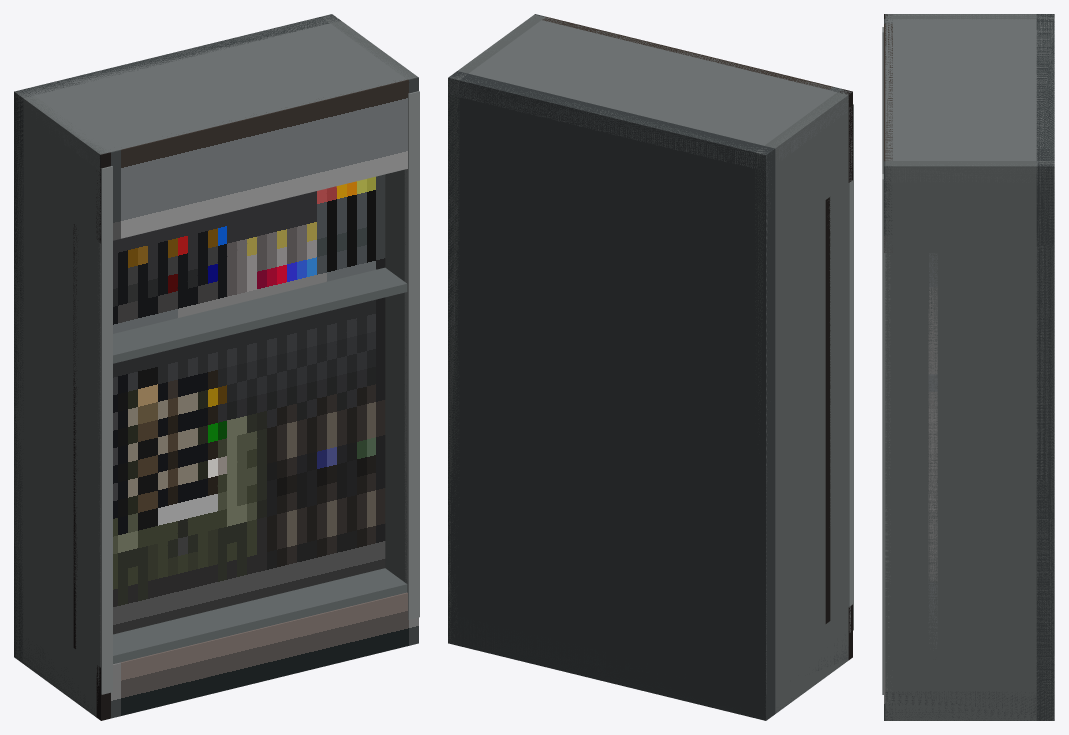
Rendered from CMU3DReduxAU14HAZOPSSpecialWeaponsVendor.glb.
3 views of the same model, side by side, from view 1: azimuth 30°, elevation 25°; view 2: azimuth 150°, elevation 25°; view 3: azimuth 270°, elevation 25° (orthographic).
Visible parts, largest first — view 1: source cabinet panel 2, left casing, source cabinet panel 0, closed roof, source cabinet panel 1, source cabinet panel 3, front upright (×2), right casing, shelf tray 2, shelf tray 1, closed cabinet back; view 2: closed cabinet back, left casing, closed roof, right casing, front upright, source cabinet panel 0, source cabinet panel 2, closed plinth and underside, source cabinet panel 1; view 3: right casing, closed roof, closed cabinet back, source cabinet panel 2, front upright, closed plinth and underside, source cabinet panel 0, source cabinet panel 1, left casing.
Part boxes in pixels (left/top/right/bottom): source cabinet panel 2: left=73, top=297, right=385, bottom=648; left casing: left=14, top=90, right=108, bottom=717; source cabinet panel 0: left=96, top=77, right=418, bottom=243; closed roof: left=16, top=14, right=417, bottom=170; source cabinet panel 1: left=73, top=174, right=385, bottom=347; source cabinet panel 3: left=96, top=592, right=418, bottom=720; front upright (×2): left=97, top=91, right=419, bottom=694; right casing: left=322, top=14, right=417, bottom=582; shelf tray 2: left=113, top=568, right=407, bottom=664; shelf tray 1: left=113, top=267, right=407, bottom=363; closed cabinet back: left=14, top=14, right=340, bottom=663; closed cabinet back: left=448, top=71, right=775, bottom=720; left casing: left=755, top=89, right=851, bottom=719; closed roof: left=448, top=15, right=849, bottom=171; right casing: left=448, top=14, right=545, bottom=643; front upright: left=849, top=104, right=853, bottom=632; source cabinet panel 0: left=532, top=14, right=852, bottom=182; source cabinet panel 2: left=825, top=321, right=830, bottom=623; closed plinth and underside: left=448, top=617, right=848, bottom=720; source cabinet panel 1: left=825, top=197, right=830, bottom=323; right casing: left=885, top=161, right=1054, bottom=720; closed roof: left=885, top=14, right=1054, bottom=182; closed cabinet back: left=1036, top=14, right=1054, bottom=720; source cabinet panel 2: left=928, top=374, right=937, bottom=659; front upright: left=882, top=174, right=890, bottom=694; closed plinth and underside: left=885, top=691, right=1054, bottom=720; source cabinet panel 0: left=884, top=14, right=892, bottom=252; source cabinet panel 1: left=928, top=253, right=937, bottom=374; left casing: left=885, top=14, right=1054, bottom=19.
Bounding box in the file's own units: 1 × 1.7 × 0.478.
Materials: 10 (4 with a texture image).
